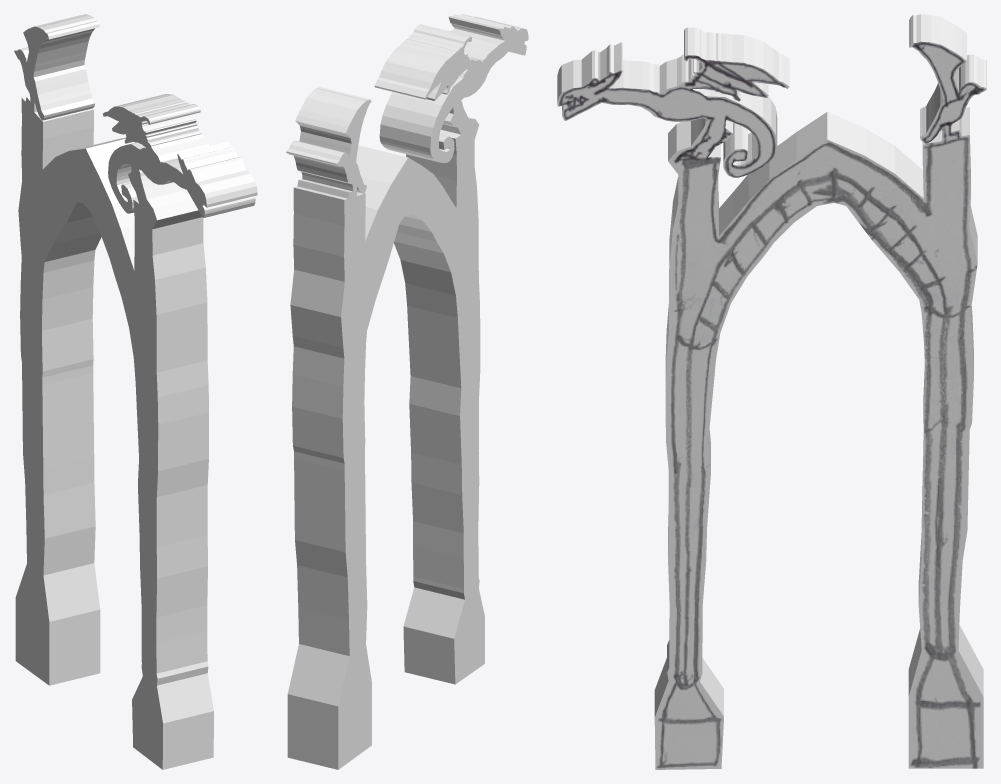
File: ArcoBien.fbx
3 views of the same model, side by side, from view 1: azimuth 30°, elevation 25°; view 2: azimuth 150°, elevation 25°; view 3: azimuth 270°, elevation 25° (orthographic). The views are drawn at different scales.
Parts seen in each view (by area): view 1: Plane; view 2: Plane; view 3: Plane.
Boxes of the visible parts, x1=… form: Plane: x1=14, y1=14, x2=257, y2=769; Plane: x1=286, y1=14, x2=528, y2=769; Plane: x1=557, y1=14, x2=986, y2=769.
Bounding box in the file's own units: 23.11 × 283 × 151.
Materials: 1 (1 with a texture image).
